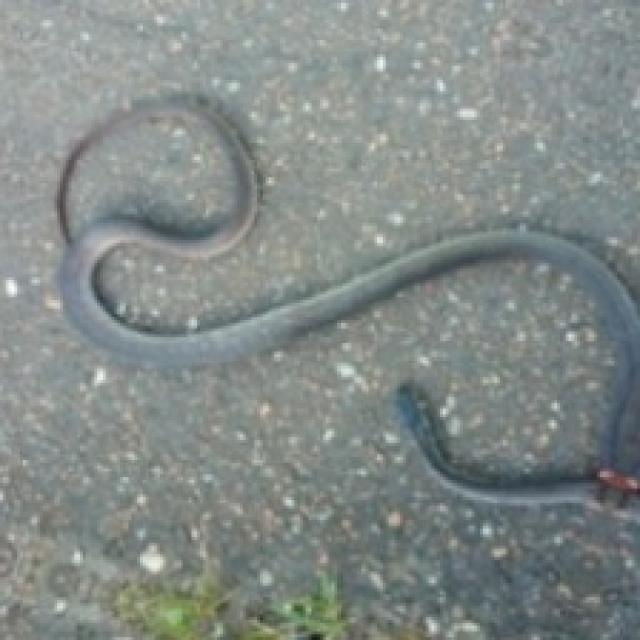reddish rat snake: (57, 97, 637, 503)
